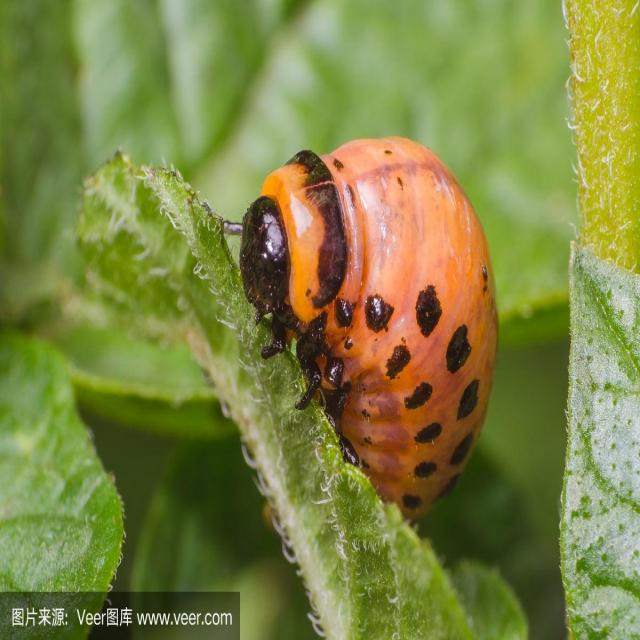ShuCaiHuaBanChong-Larva-: (226, 125, 508, 531)
